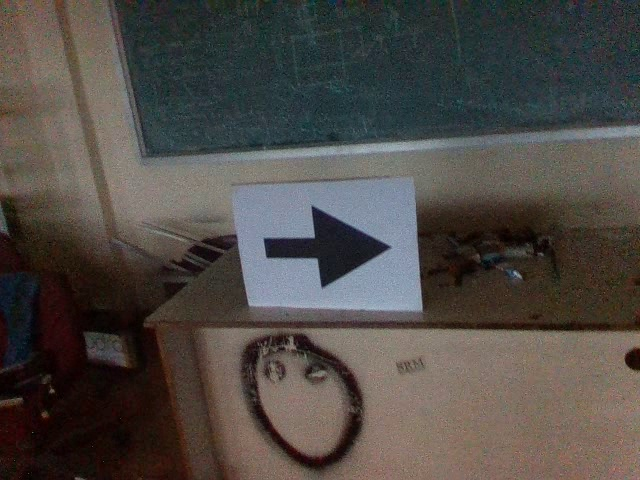Right: (258, 202, 396, 295)
